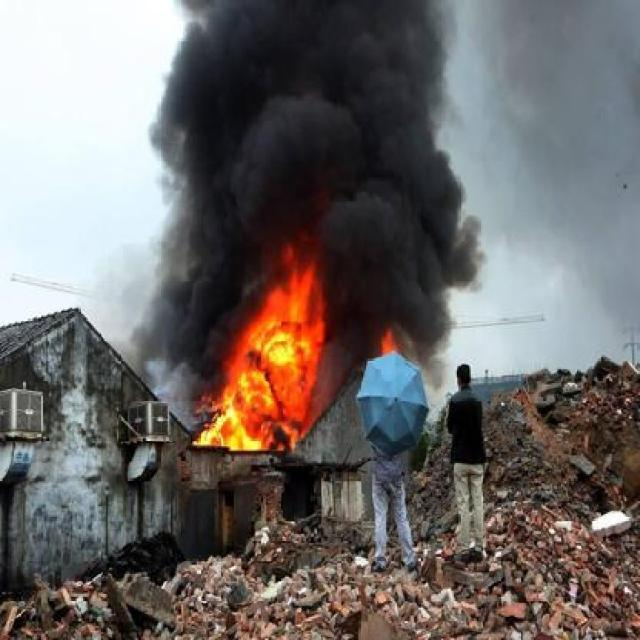Fire: (204, 252, 330, 463)
Smoke: (168, 12, 459, 256), (345, 264, 447, 360), (148, 264, 202, 410)
